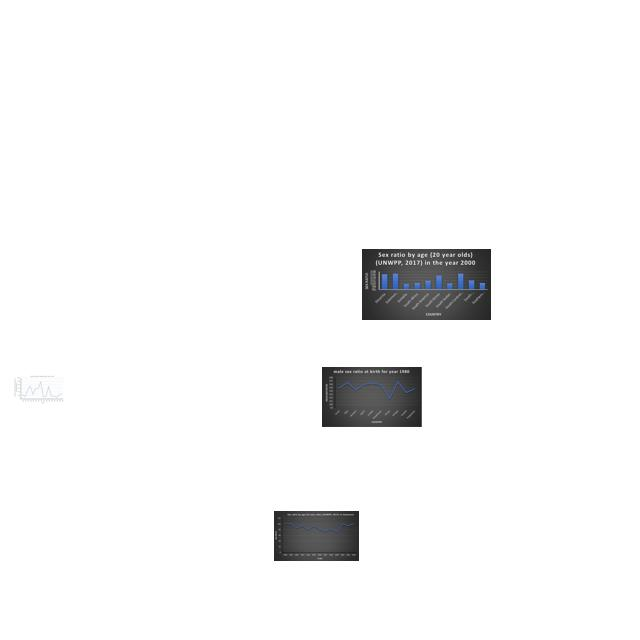Graph: (362, 249, 491, 320), (322, 367, 422, 427), (274, 511, 359, 561), (14, 375, 64, 404)
